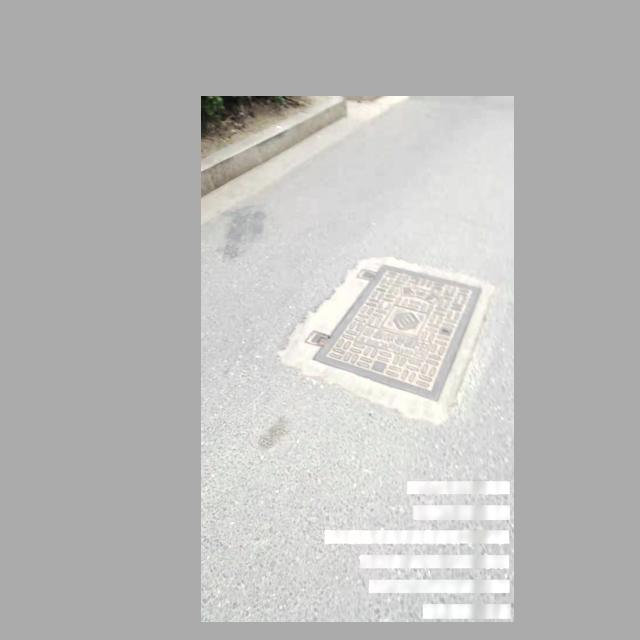good: (290, 258, 486, 396)
